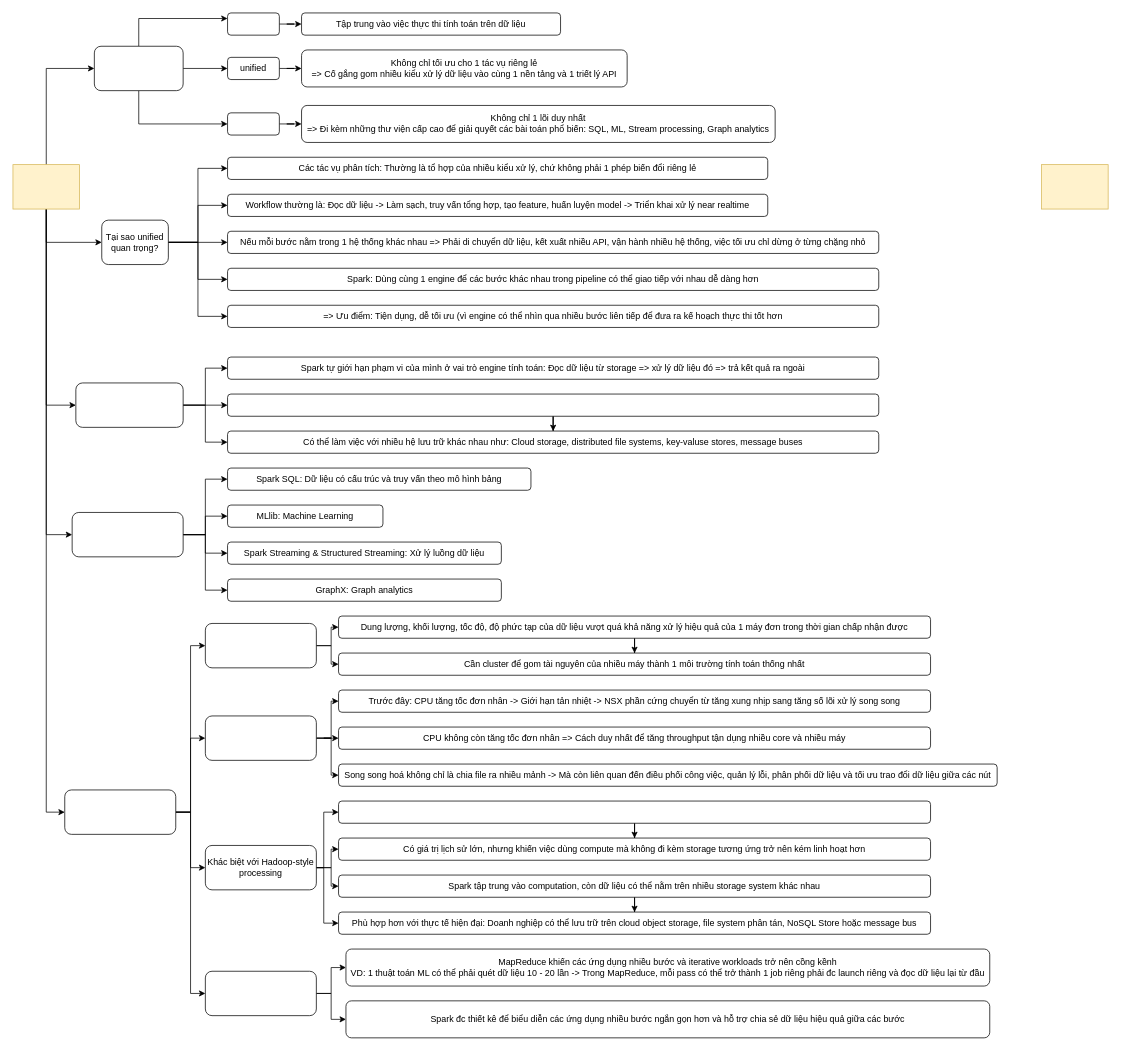
Some shapes in this 1121 by 1051 pixel diagram are drawn without their labels. Each missing label, with the box of its shape:
Big Data: (205, 623, 316, 668)
engine: (227, 12, 279, 35)
Hadoop đời đầu gắn khá chặt storage và computation thông qua HDFS và MapReduce: (338, 800, 931, 823)
libraries: (227, 112, 279, 135)
Parallel computing: (205, 715, 316, 760)
Spark Application: (1041, 164, 1108, 209)
Spark không định vị mình như nơi lưu trữ lâu dài: (227, 393, 879, 416)
Thuận lợi hơn cho ứng dụng nhiều bước: (205, 971, 316, 1016)
Thư viện cốt lõi: (71, 512, 183, 557)
Tại sao Spark quan trọng?: (64, 789, 176, 834)
Unified Computing Engine: (94, 46, 183, 91)
Vai trò computing engine (Không phải storage): (75, 382, 183, 427)
What is Spark?: (12, 164, 80, 209)
